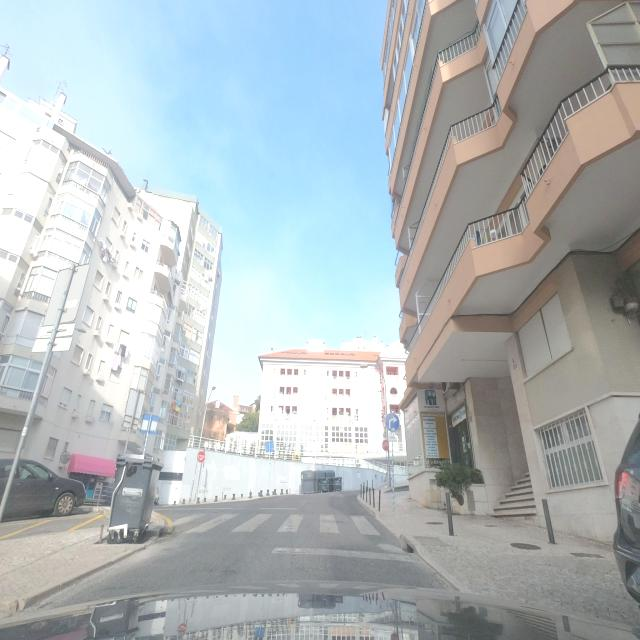car: (612, 395, 640, 634), (0, 455, 87, 523)
